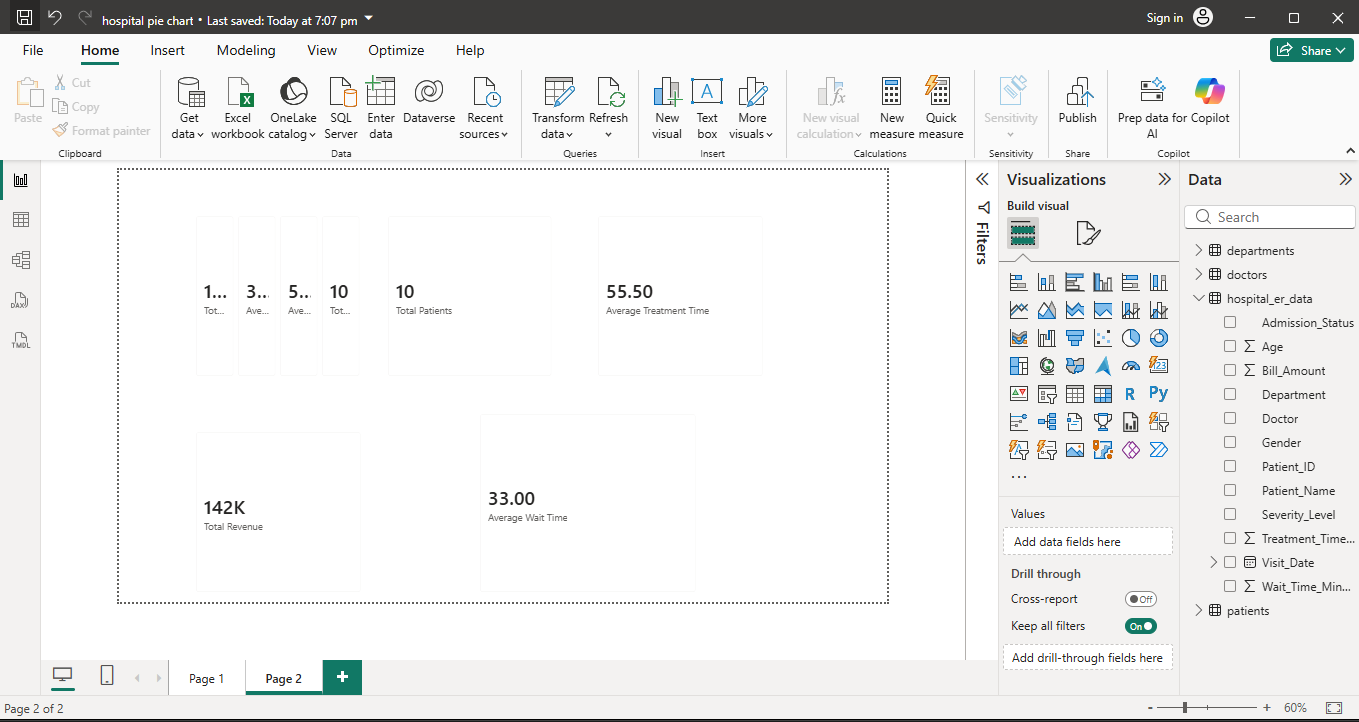

What the dashboard file says about the page in this screenshot:
{"tool":"powerbi","page":{"name":"Page 2","canvas":[1280,720],"ordinal":1},"visuals":[{"type":"cardVisual","fields":{"Data":["departments.Total Revenue","departments.Average Wait Time","departments.Average Treatment Time","departments.Total Patients"]},"box":[113,0,308,300],"z":0},{"type":"cardVisual","fields":{"Data":["departments.Total Revenue"]},"box":[113,310,308,300],"z":1000},{"type":"cardVisual","fields":{"Data":["departments.Total Patients"]},"box":[431,0,308,300],"z":2000},{"type":"cardVisual","fields":{"Data":["departments.Average Wait Time"]},"box":[431,310,308,300],"z":3000},{"type":"cardVisual","fields":{"Data":["departments.Average Treatment Time"]},"box":[749,0,308,300],"z":4000}]}

Visuals, with their boxes on the page's 1280x720 design canvas (x1, y1, x2, y2). These are canvas units, not pixel positions in the 1359x722 screenshot, which may show the page scaled, cropped or inside an application window:
cardVisual - departments.Total Revenue x departments.Average Wait Time: 113:0:421:300
cardVisual - departments.Total Revenue: 113:310:421:610
cardVisual - departments.Total Patients: 431:0:739:300
cardVisual - departments.Average Wait Time: 431:310:739:610
cardVisual - departments.Average Treatment Time: 749:0:1057:300
